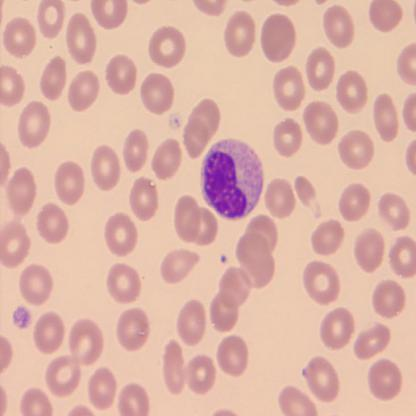Metamyelocyte: (199, 136, 265, 220)
